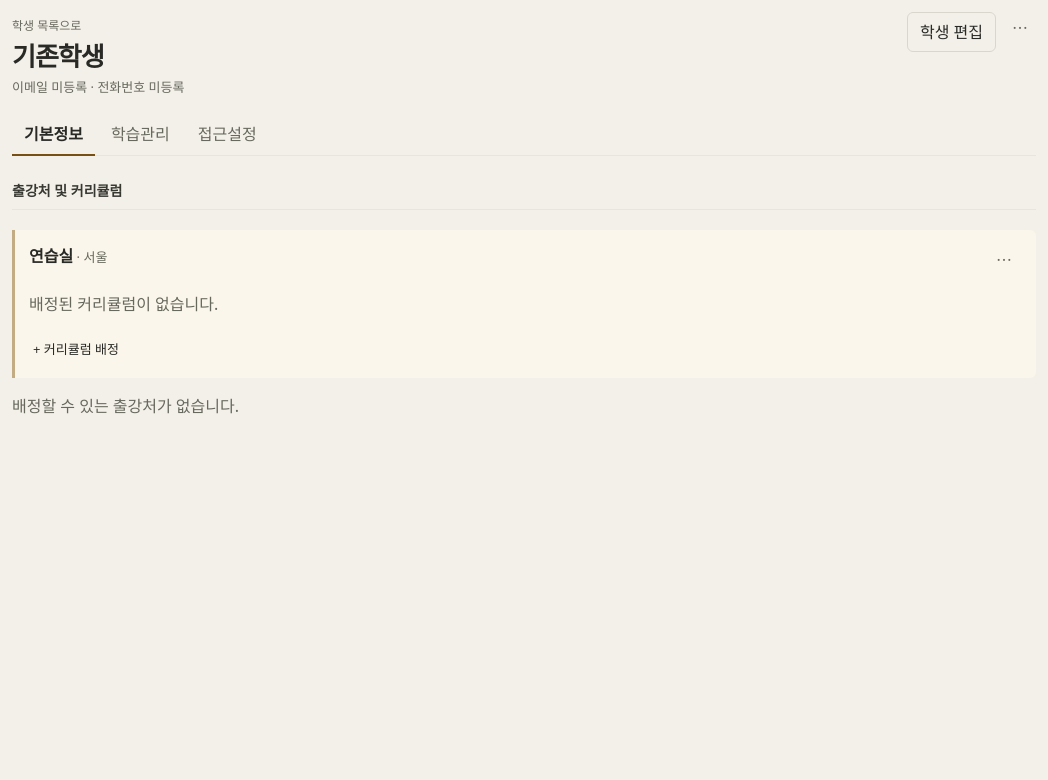
Test: says the previous assignment was reactivated and shows the refetched memo
Click the button "+ 커리큘럼 배정". click: click(76, 350)
box: [31, 334, 121, 366]
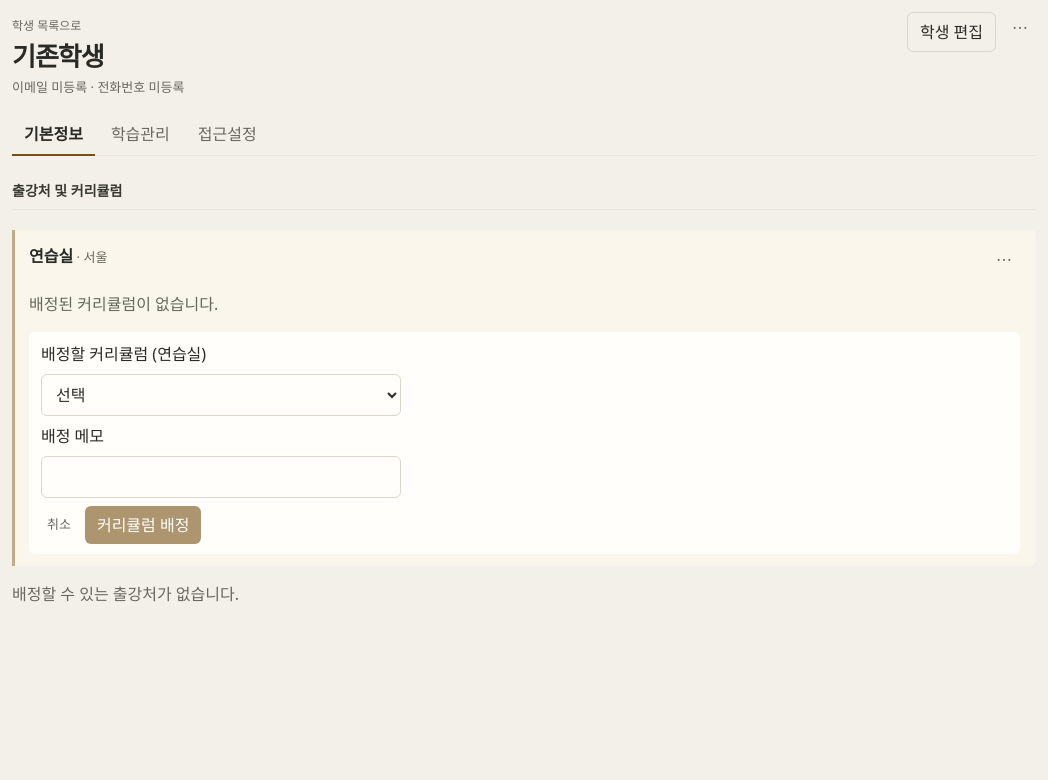
Select "기초" in the dropdown labelled "배정할 커리큘럼 (연습실)". click: (221, 394)
box: [41, 374, 401, 416]
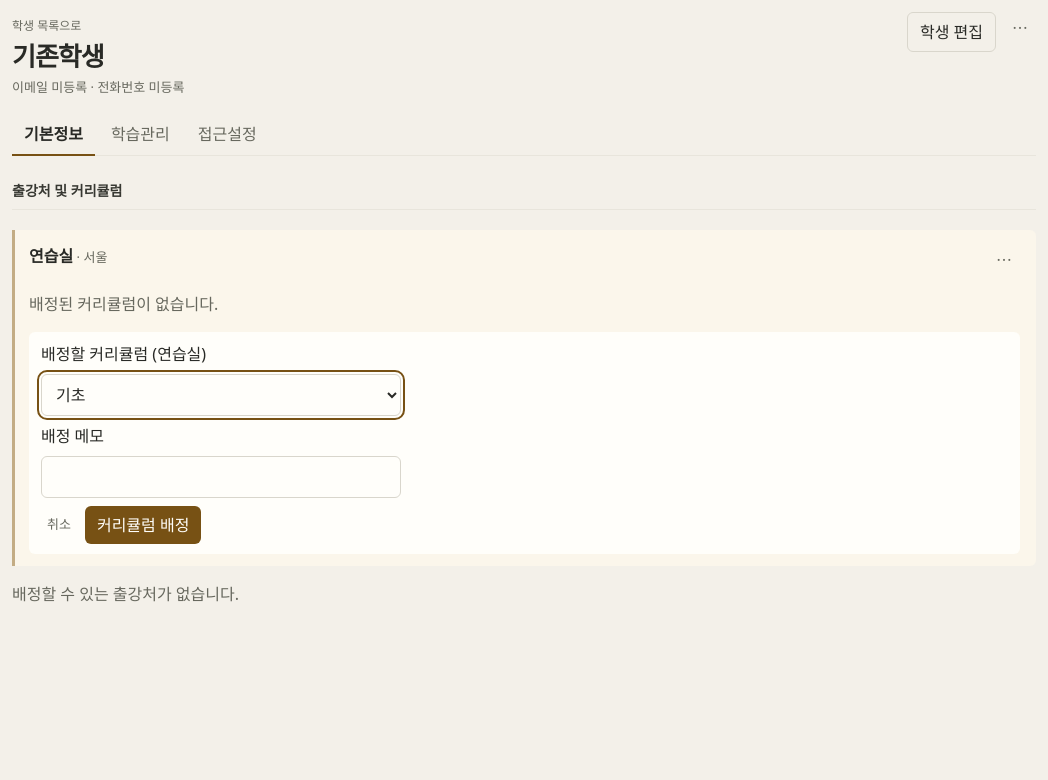
Type "새메모" into the field labelled "배정 메모". click: (221, 476)
box: [41, 456, 401, 498]
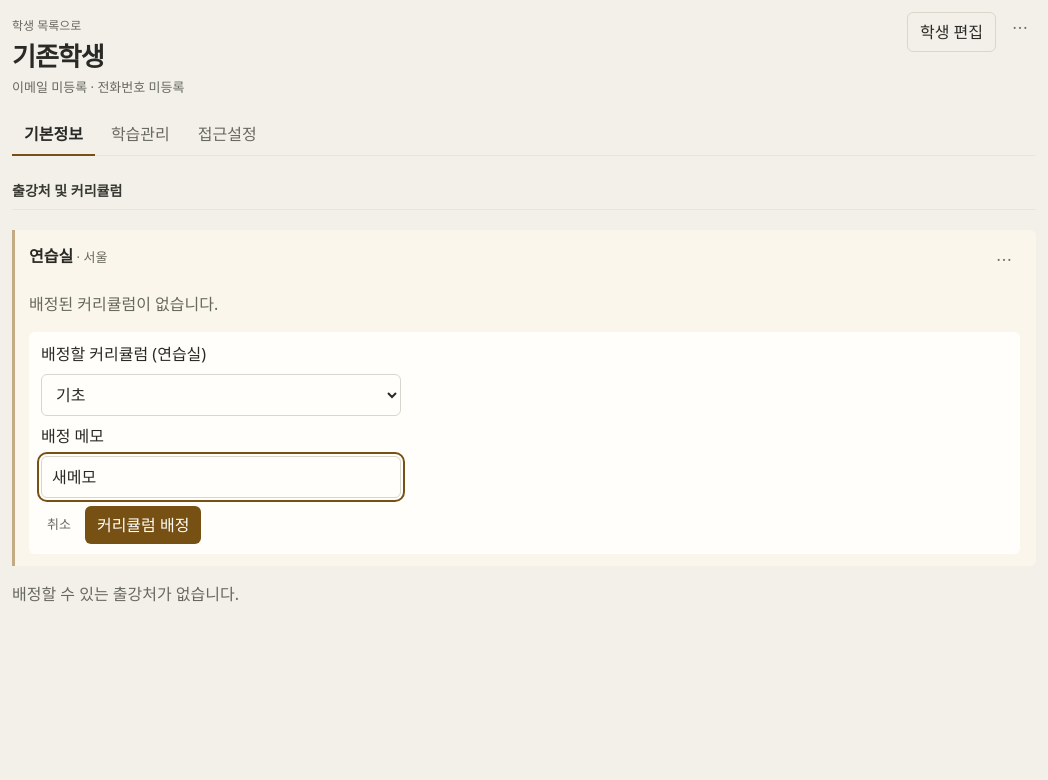
Click the button "커리큘럼 배정". click: click(143, 524)
box: [85, 506, 201, 544]
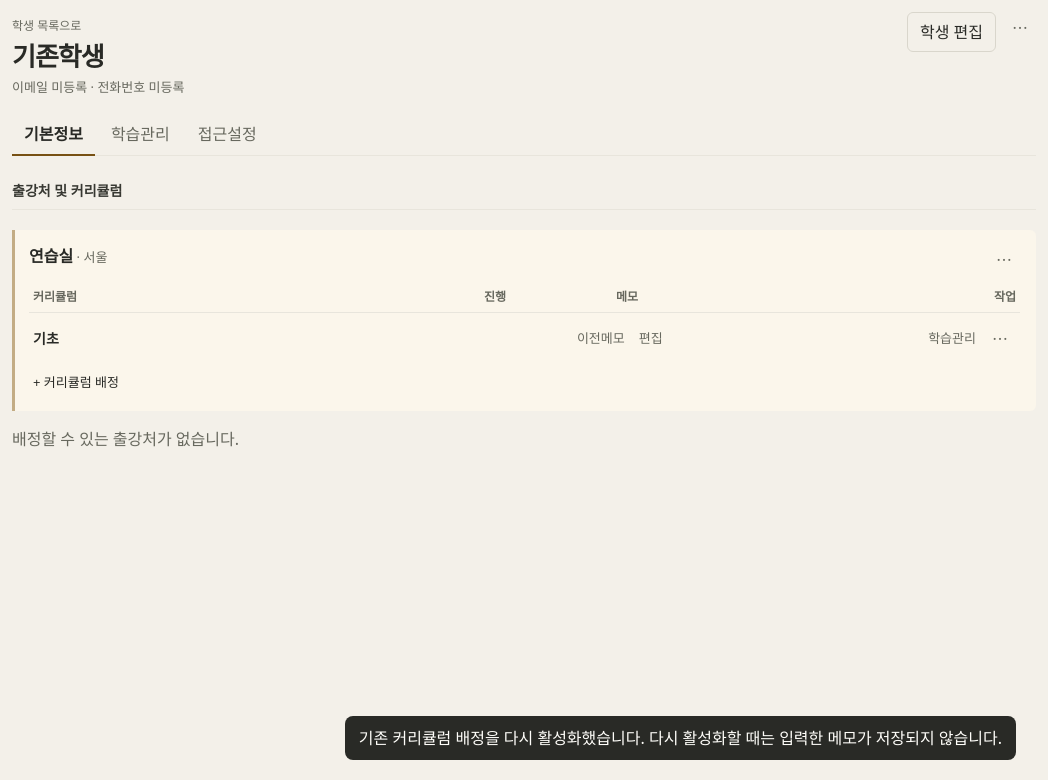
Expected: the field showing "새메모" is not shown
Expected: the text "기존 커리큘럼 배정을 다시 활성화했습니다. 다시 활성화할 때는 입력한 메모가 저장되지 않습니다." is shown, [345, 716, 1016, 760]
Expected: the text "이전메모" is shown, [577, 329, 625, 348]
